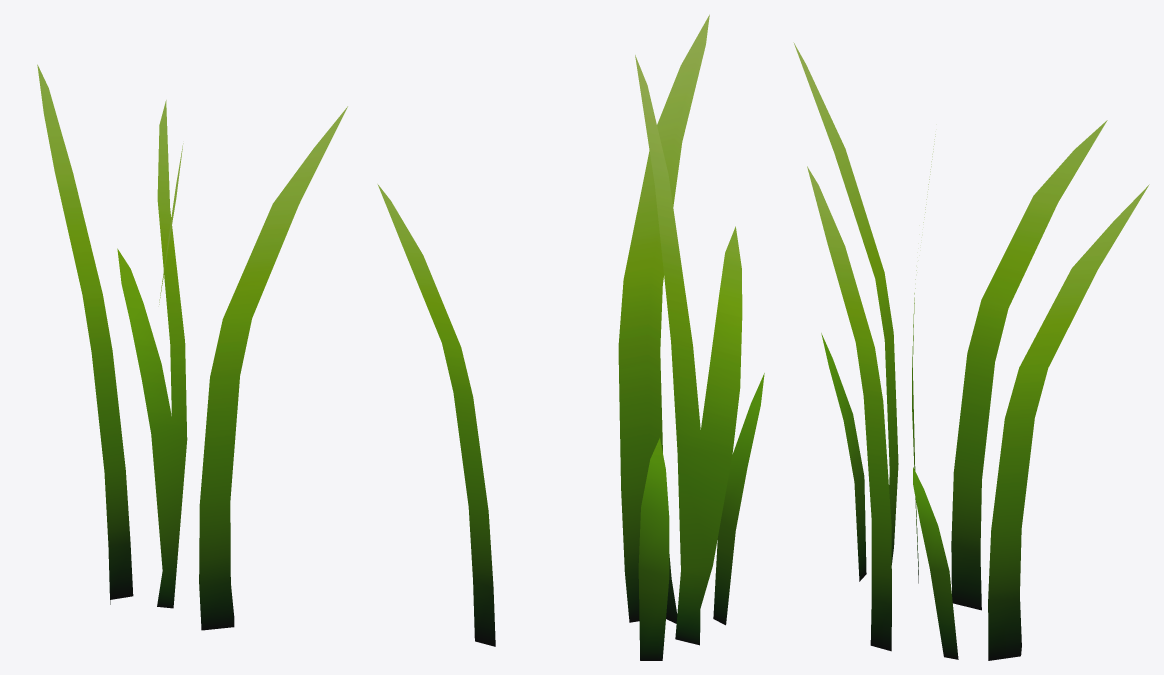
The model's file is crop-a.glb.
3 views of the same model, side by side, from view 1: azimuth 30°, elevation 25°; view 2: azimuth 150°, elevation 25°; view 3: azimuth 270°, elevation 25° (orthographic). The views are drawn at different scales.
Parts seen in each view (by area): view 1: Grass_Common_Short; view 2: Grass_Common_Short; view 3: Grass_Common_Short.
Boxes of the visible parts, x1,y1,x2,y2 form: Grass_Common_Short: (37,64,347,630); Grass_Common_Short: (377,14,764,660); Grass_Common_Short: (793,42,1149,660).
Bounding box in the file's own units: 0.6389 × 1.33 × 0.7373.
1 material, 1 textured.
